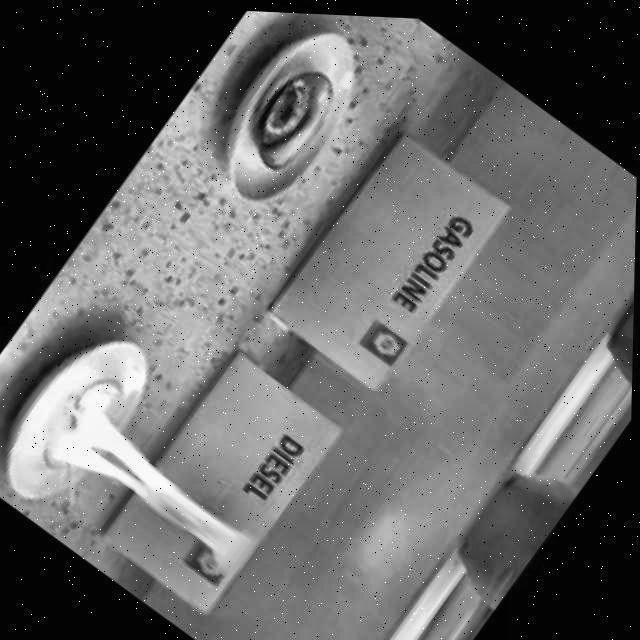Fire: (35, 382, 279, 587)
